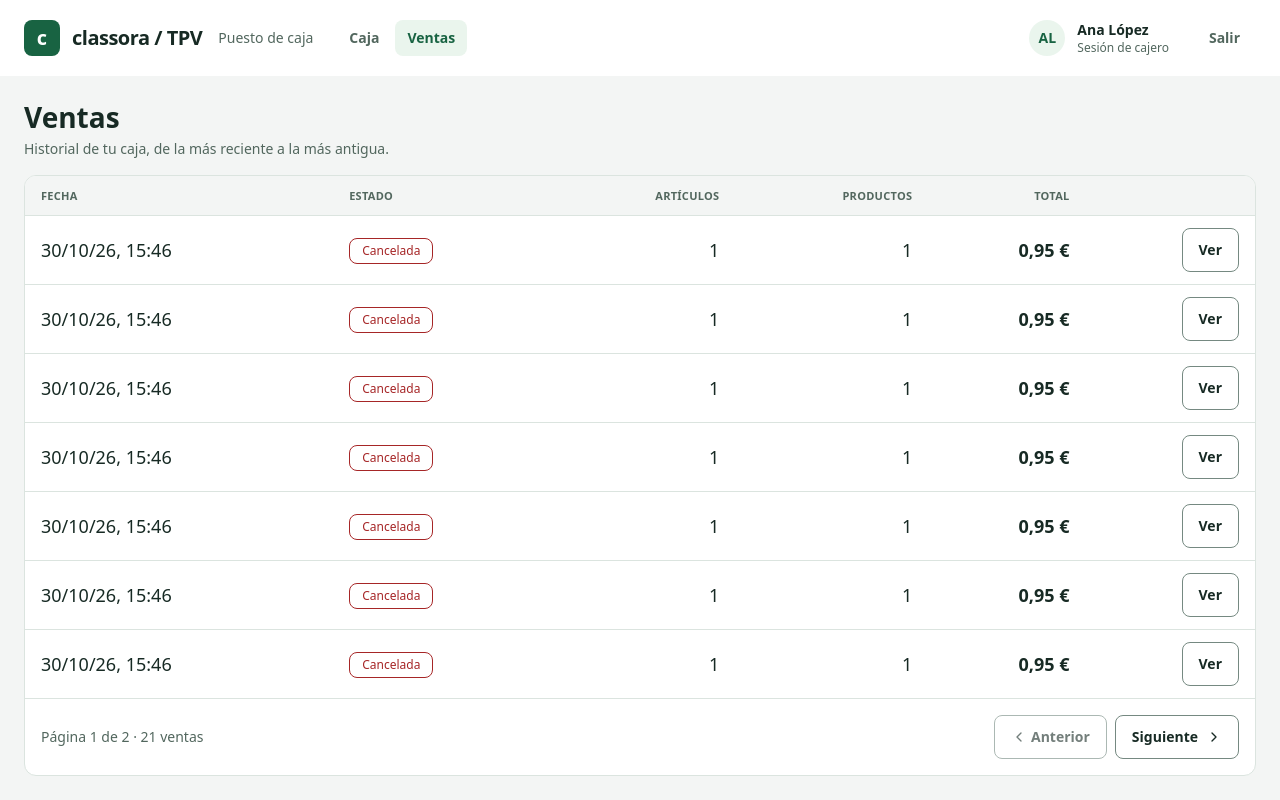
it: Sales history: Screen Integration › should page through the history
Expected: the text "Página 1 de 2 · 21 ventas" is shown, [41, 727, 204, 747]
Click the button "Siguiente" at point(1177, 737), box [1115, 715, 1239, 759]
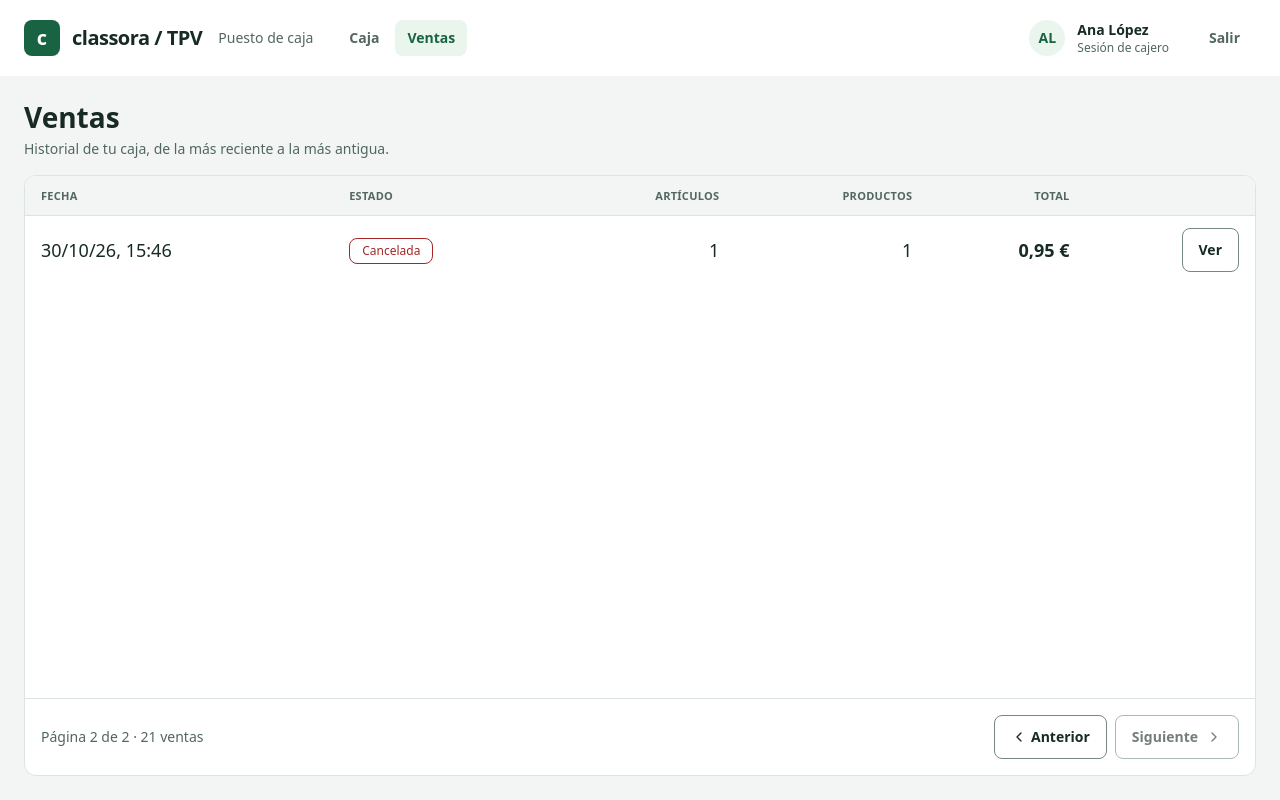
Now the text "Página 2 de 2 · 21 ventas" is shown, box [41, 727, 204, 747]
Now the button "Siguiente" is disabled, box [1115, 715, 1239, 759]
